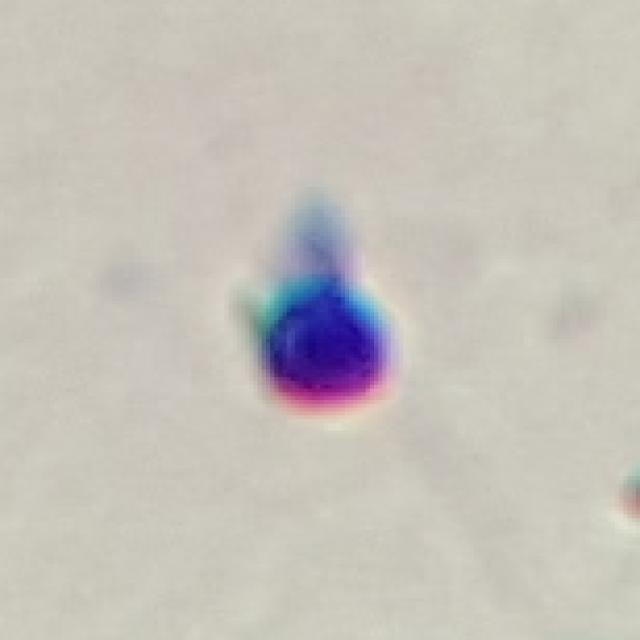non-sperm: (219, 254, 407, 422)
